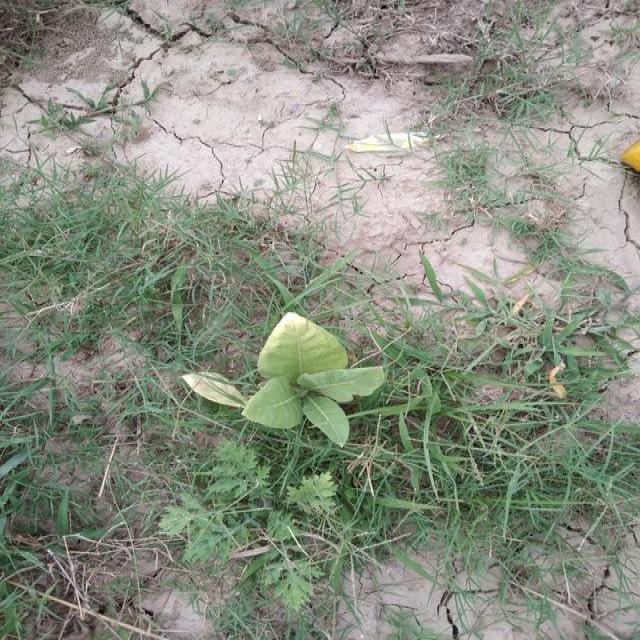crop: (179, 304, 397, 443)
